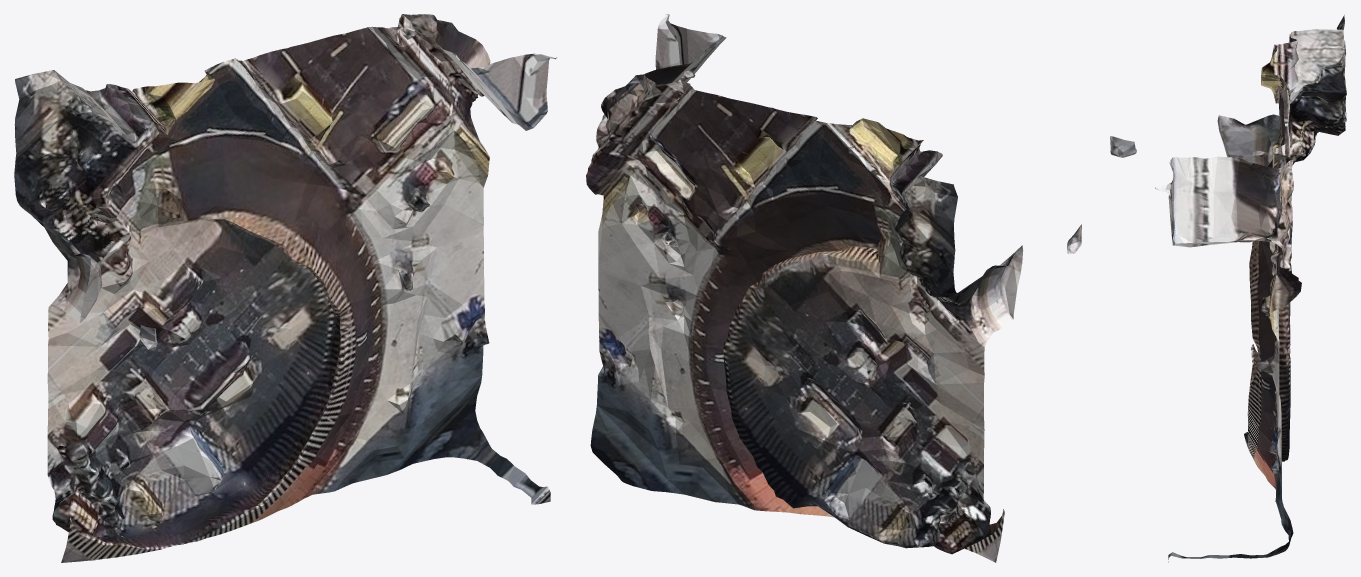
The model's file is Tile_+032_+021_L20_0001110.obj.
3 views of the same model, side by side, from view 1: azimuth 30°, elevation 25°; view 2: azimuth 150°, elevation 25°; view 3: azimuth 270°, elevation 25° (orthographic). The views are drawn at different scales.
Size of the model in its own units: 31.38 by 31.38 by 17.99.
1 material, 1 textured.
